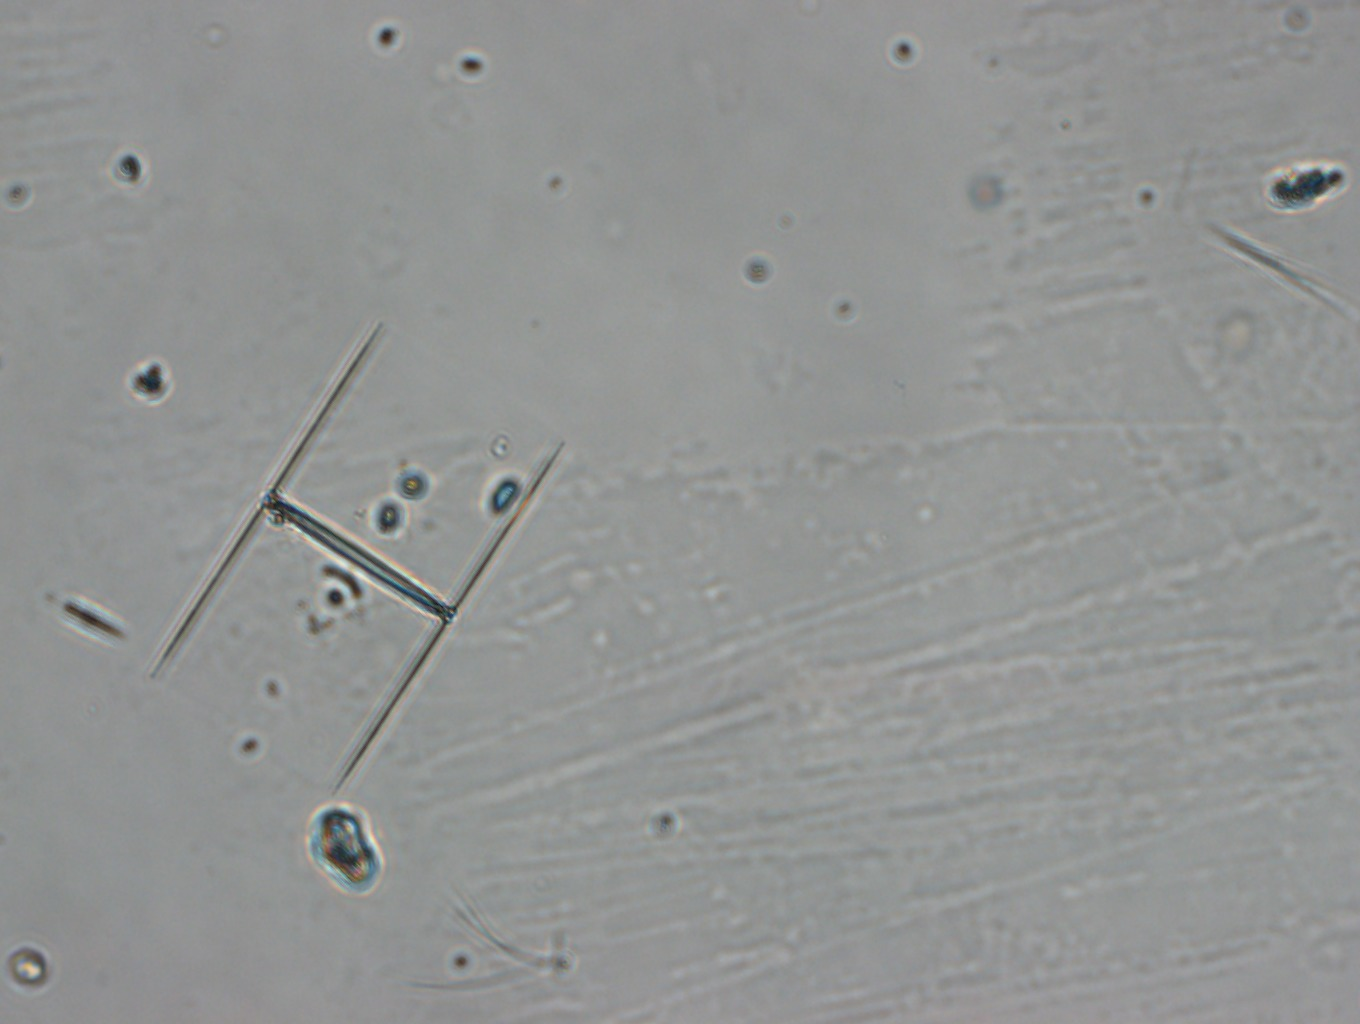guinardia flaccida: (158, 324, 553, 809)
